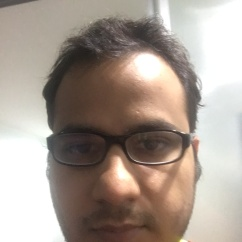glasses: (45, 131, 197, 171)
